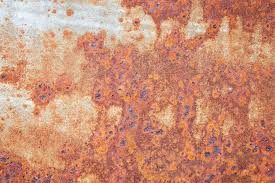rust: (156, 131, 274, 181), (81, 32, 117, 106), (200, 1, 275, 34), (5, 153, 84, 183), (133, 1, 190, 25)
